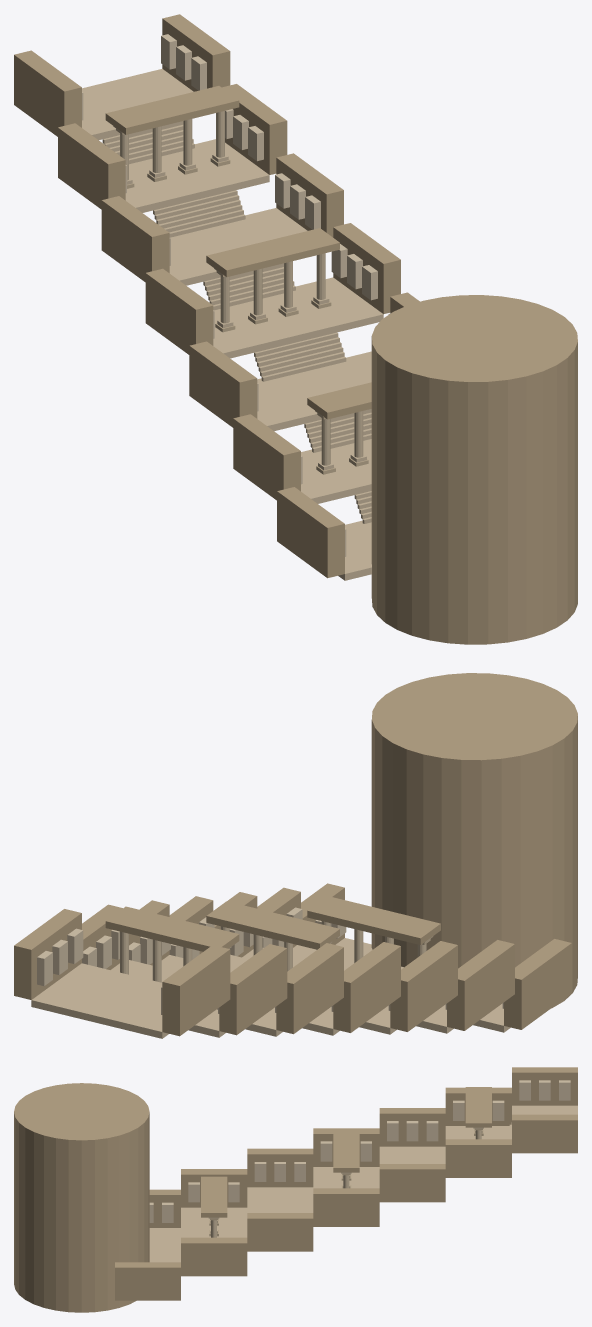
Rendered from rani_vav.glb.
The picture shows the model from 3 angles, top to bottom: view 1: azimuth 30°, elevation 25°; view 2: azimuth 150°, elevation 25°; view 3: azimuth 270°, elevation 25°; orthographic projection. The views are drawn at different scales.
Parts seen in each view (by area): view 1: geometry_0; view 2: geometry_0; view 3: geometry_0.
Part boxes in pixels (<box>): geometry_0: <box>14,14,577,644</box>; geometry_0: <box>14,673,577,1038</box>; geometry_0: <box>14,1067,577,1312</box>.
Size of the model in its own units: 11.2 by 12.7 by 34.1.
